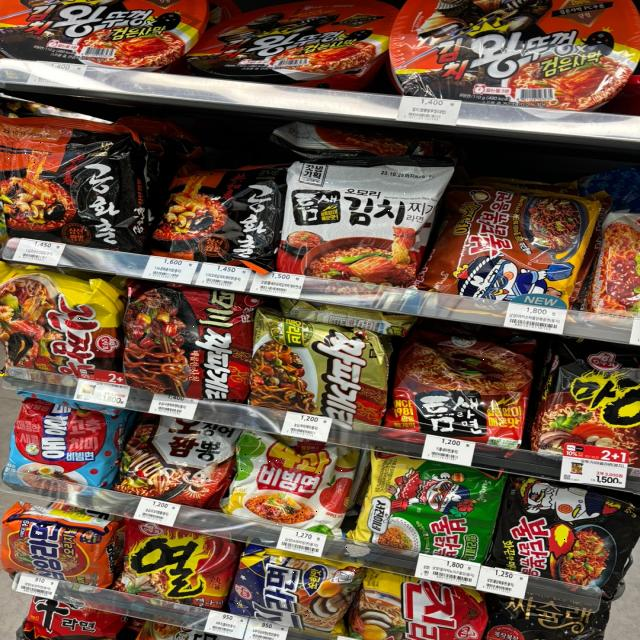product: (287, 160, 427, 280), (4, 127, 132, 240), (376, 456, 502, 564), (402, 340, 531, 444), (253, 313, 379, 416), (3, 268, 116, 378), (495, 484, 633, 574), (129, 287, 246, 393), (232, 434, 352, 530), (236, 547, 356, 624), (16, 398, 114, 486), (130, 523, 229, 605), (7, 511, 106, 581)
